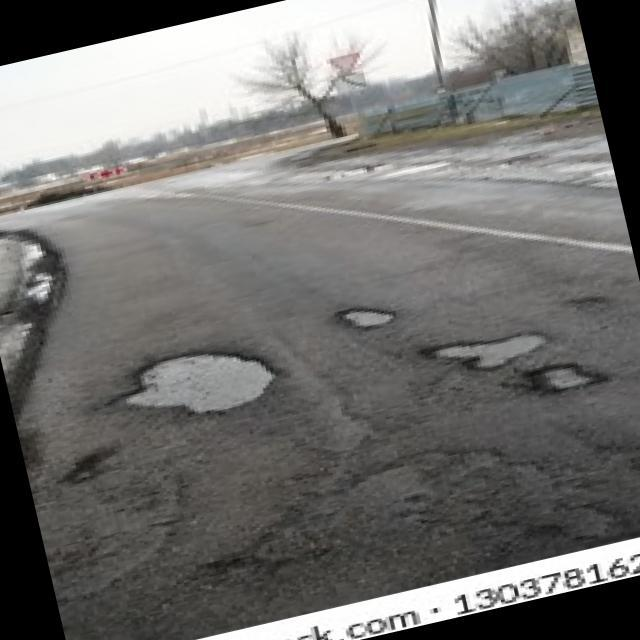Pothole: (108, 332, 284, 434), (416, 317, 556, 384), (528, 348, 608, 399), (337, 296, 402, 338)
